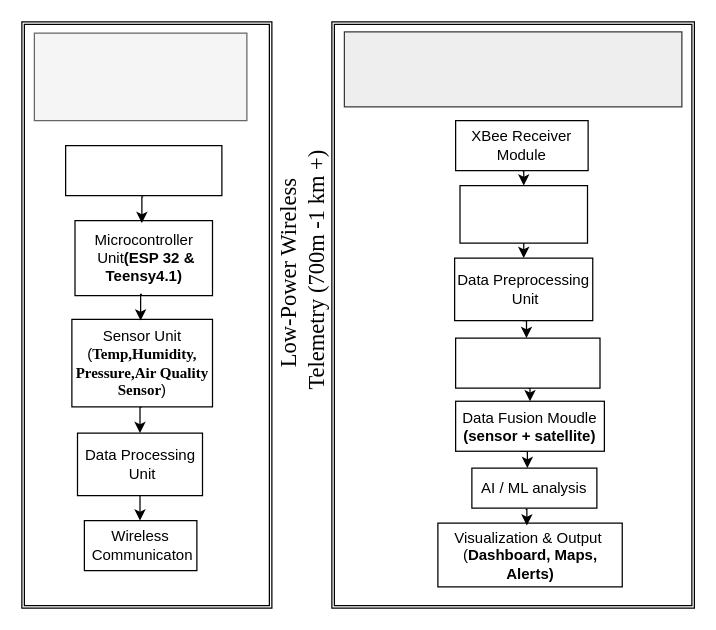
This 716x630 diagram has some shape labels left out. The box of each missing label's shape, as (x1, y1, x2, y2) in pixels:
Cansat SubSystem (Environmental Sensing Unit): (33, 32, 247, 121)
Data Storage System: (459, 184, 588, 243)
GROUND STATION SUBSYSTEM (Data Reception & Processing Unit): (343, 31, 682, 107)
Power Sytem On (Battery & Regulation): (64, 144, 222, 196)
Staellite data Interface: (454, 337, 600, 388)
